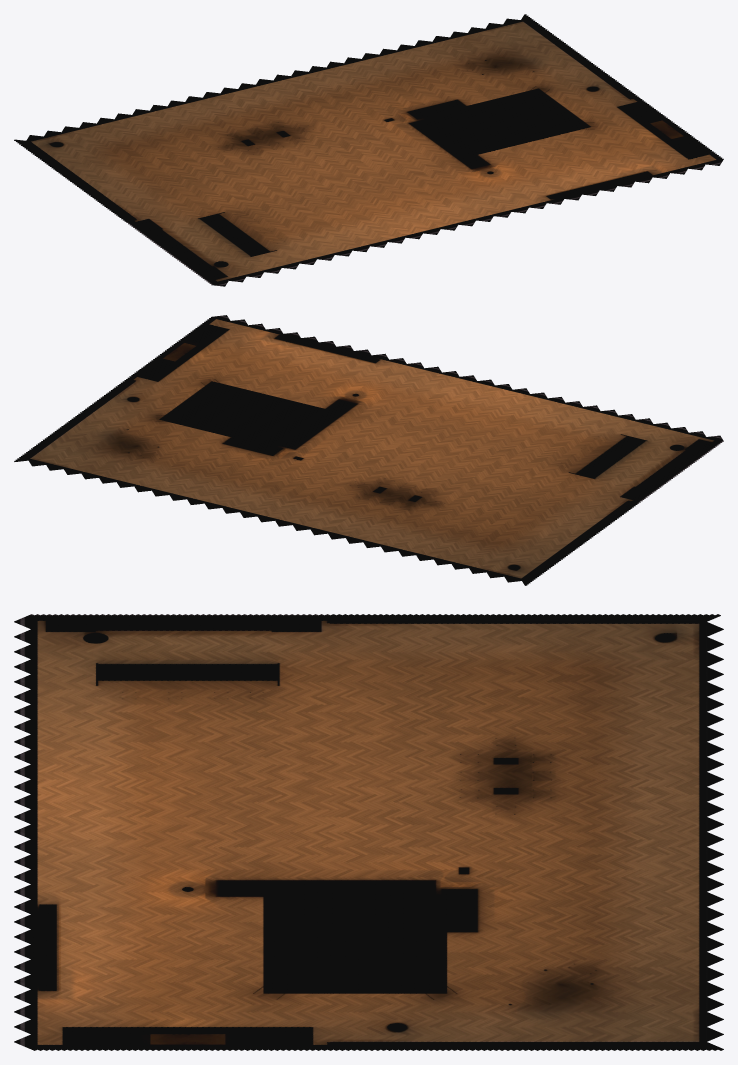
The model's file is int_floor.glb.
3 renders of one model, top to bottom at view 1: azimuth 30°, elevation 25°; view 2: azimuth 150°, elevation 25°; view 3: azimuth 270°, elevation 25°, orthographic. The views are drawn at different scales.
Parts seen in each view (by area): view 1: int_floor; view 2: int_floor; view 3: int_floor.
Part boxes in pixels (x1,y1,x2,y2): int_floor: (14,14,723,286); int_floor: (14,315,723,585); int_floor: (14,614,723,1050).
Size of the model in its own units: 24.68 by 0.0151 by 16.97.
Materials: 1 (1 with a texture image).
